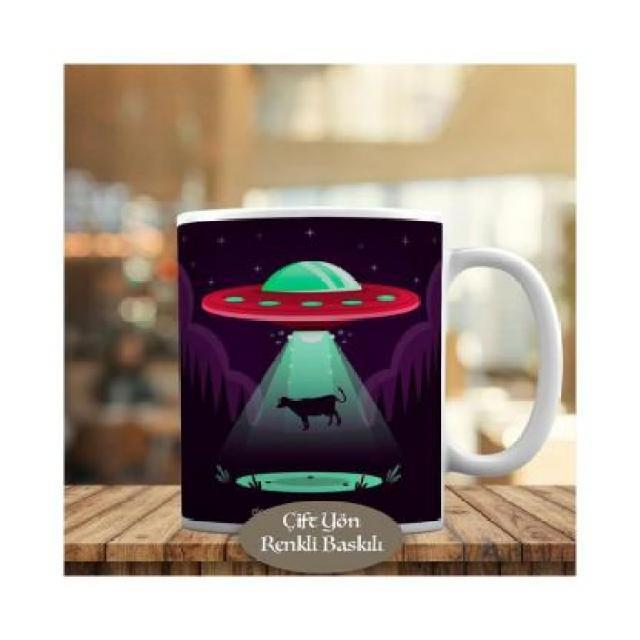taza: (155, 191, 567, 542)
